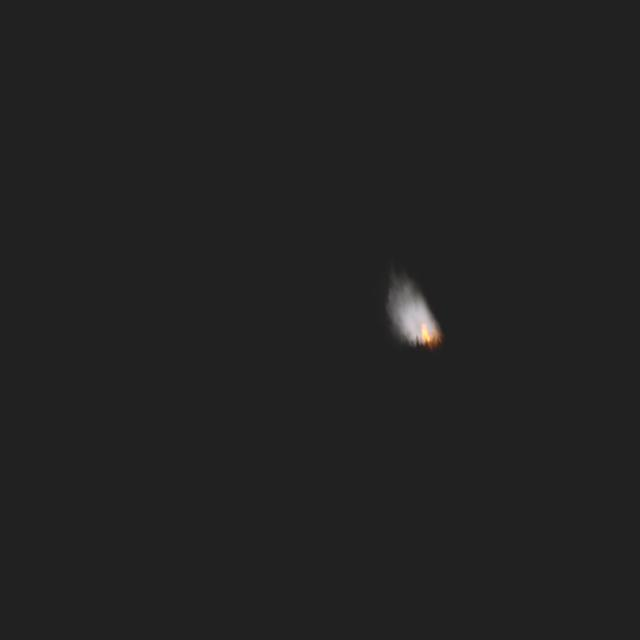fire: (418, 319, 432, 342)
smoke: (377, 272, 442, 351)
